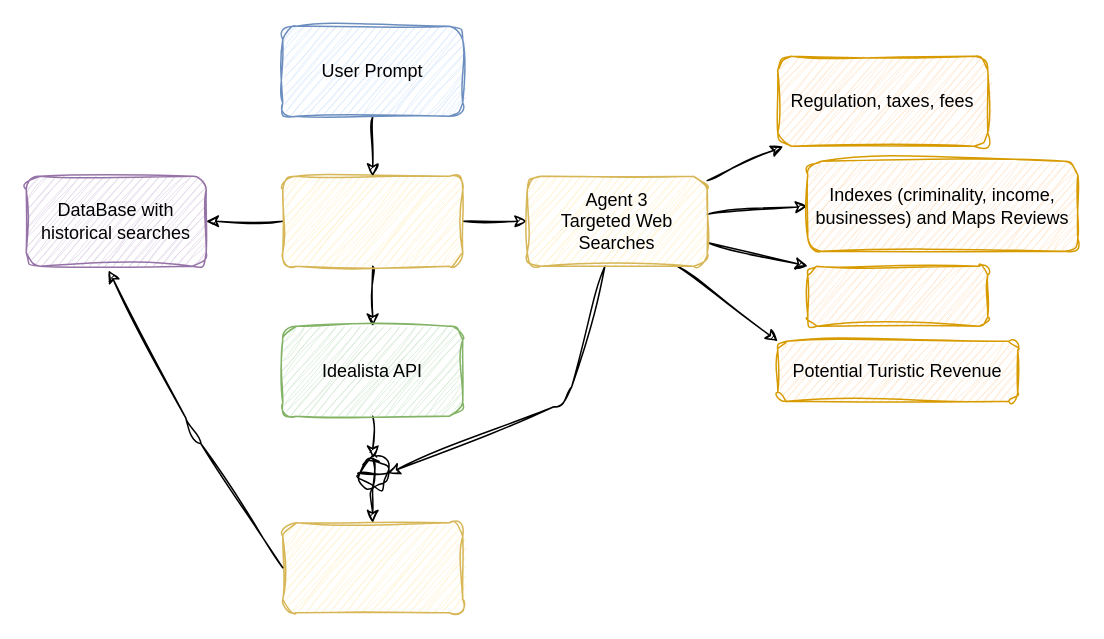
The diagram is 1104 pixels wide and 639 high, and some of its shapes have lost their labels. Here are the shapes that lost their labels. From the top down, the centre of each, then its label:
At [372,220]: "Agent 1 Orchestrator".
At [897,295]: "Renovation costs".
At [372,567]: "Agent 2 summarization, classification, scoring".
